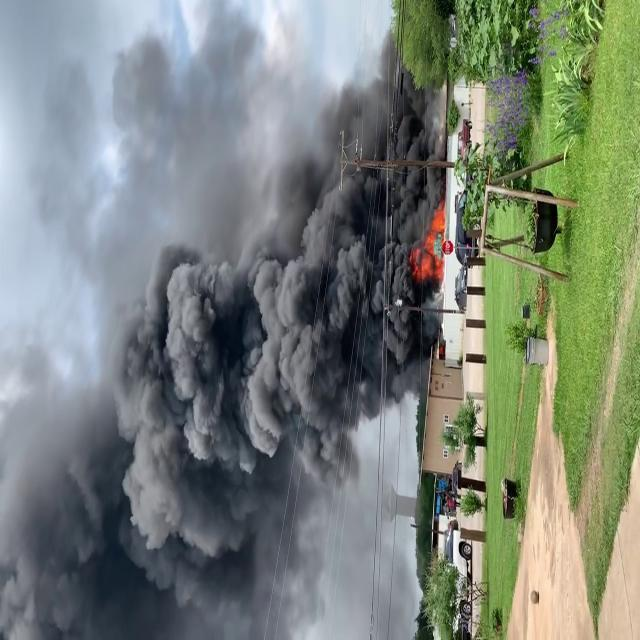Fire: (410, 204, 448, 286)
Smoke: (1, 0, 392, 627), (362, 41, 452, 265)
